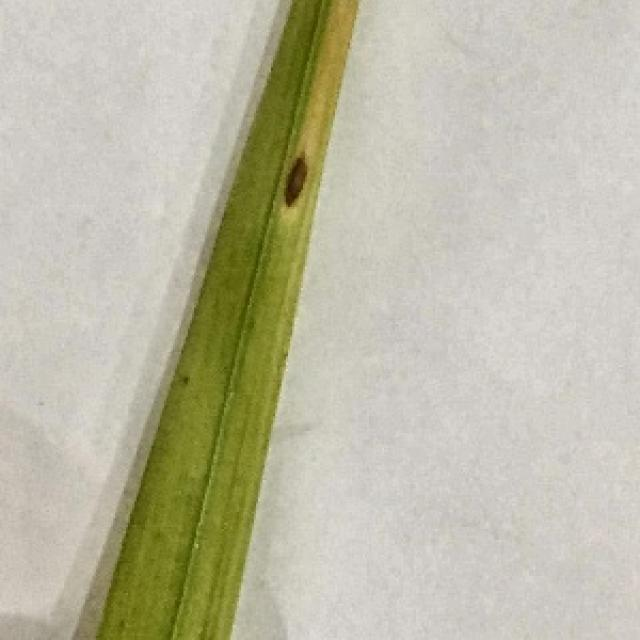Leaf_Blast: (252, 134, 318, 222)
